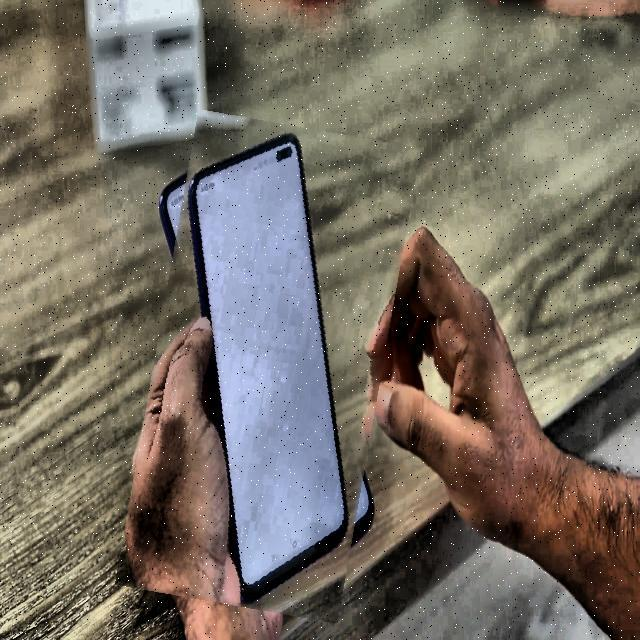Phone: (135, 117, 401, 616)
